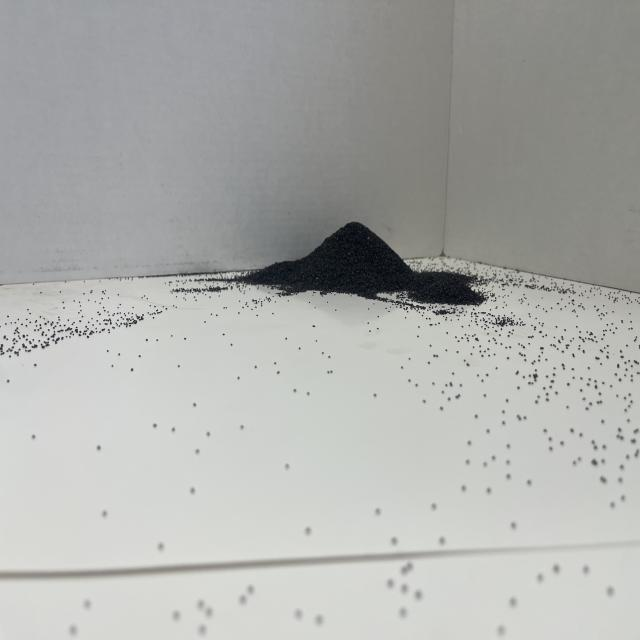Poppy Seeds: (234, 208, 500, 332)
